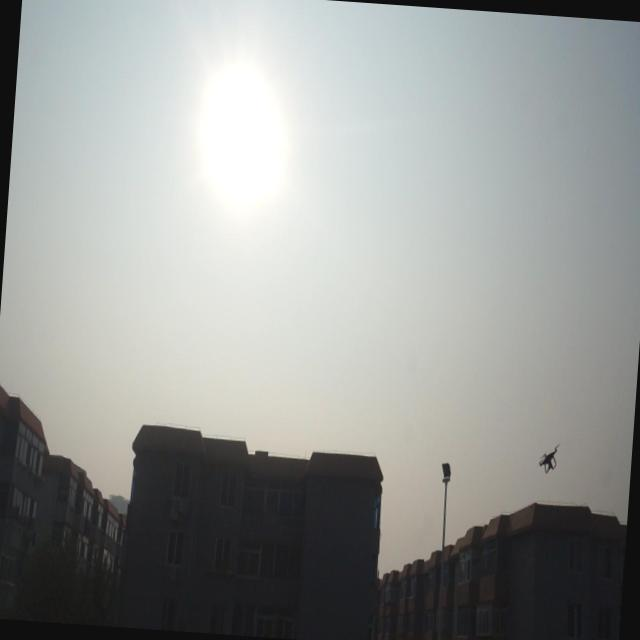drone: (537, 439, 561, 475)
